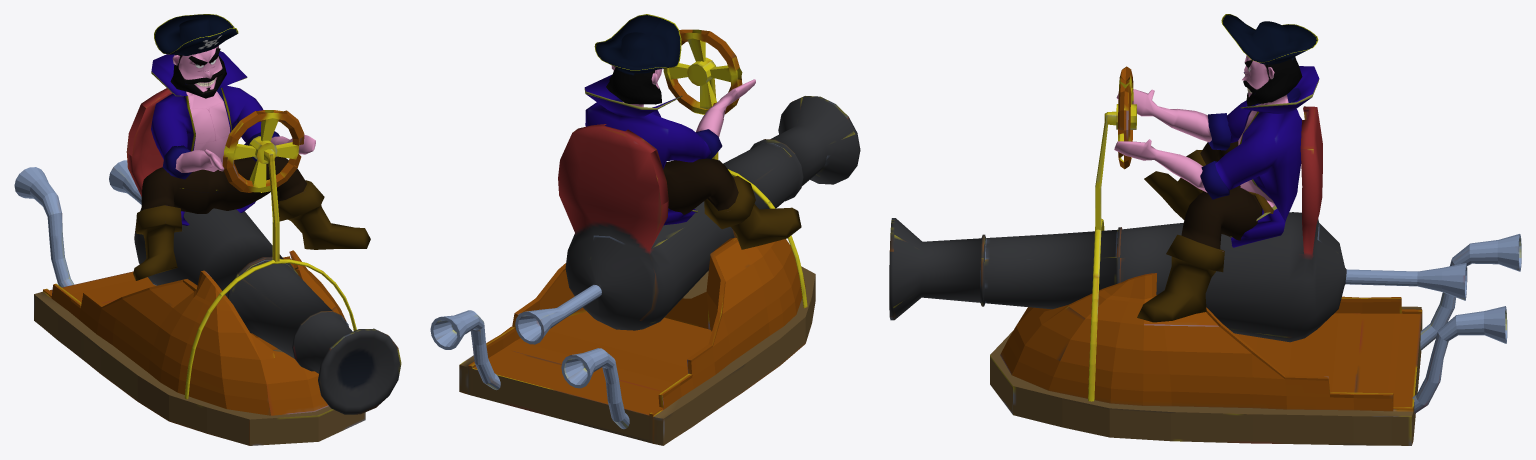
File: pirataGiroDER_000255.obj
3 views of the same model, side by side, from view 1: azimuth 30°, elevation 25°; view 2: azimuth 150°, elevation 25°; view 3: azimuth 270°, elevation 25° (orthographic). The views are drawn at different scales.
Visible parts, largest first — view 1: carro_pirata, Pirata_PirataH; view 2: carro_pirata, Pirata_PirataH; view 3: carro_pirata, Pirata_PirataH.
Boxes of the visible parts, left/top/right/bottom form: carro_pirata: left=14, top=88, right=401, bottom=445; Pirata_PirataH: left=133, top=14, right=370, bottom=280; carro_pirata: left=430, top=29, right=860, bottom=445; Pirata_PirataH: left=584, top=14, right=801, bottom=249; carro_pirata: left=889, top=66, right=1521, bottom=445; Pirata_PirataH: left=1114, top=14, right=1319, bottom=322.
Size of the model in its own units: 5.66 by 7.72 by 12.1.
2 materials, 2 textured.
